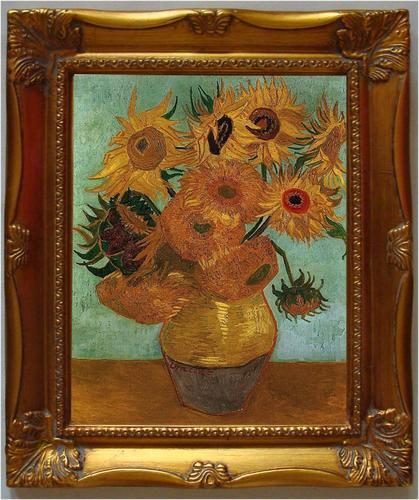Sunflower: (73, 72, 349, 424)
